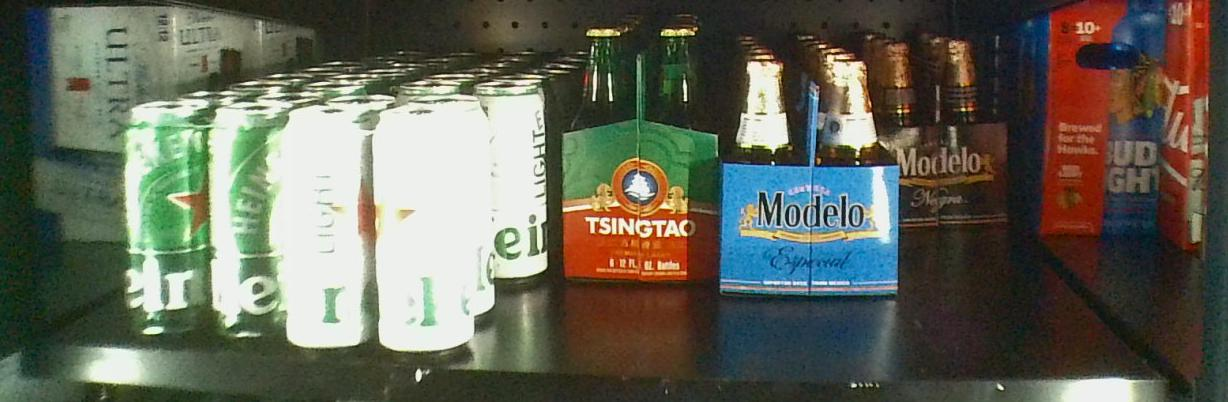bottle: (283, 100, 478, 350), (551, 21, 720, 287), (721, 51, 896, 300), (120, 103, 281, 345), (889, 39, 1009, 232)
